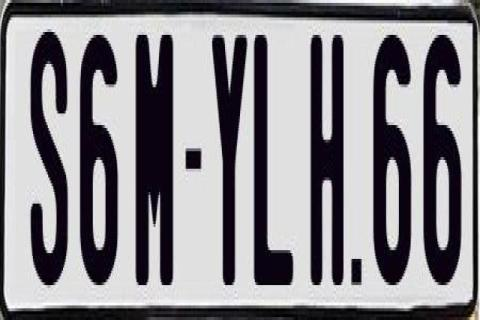0: (422, 35, 462, 299), (80, 29, 118, 291), (370, 26, 408, 288)
H: (310, 32, 346, 282)
L: (251, 27, 290, 280)
M: (136, 26, 173, 282)
S: (30, 29, 71, 285)
Y: (212, 35, 250, 291)
